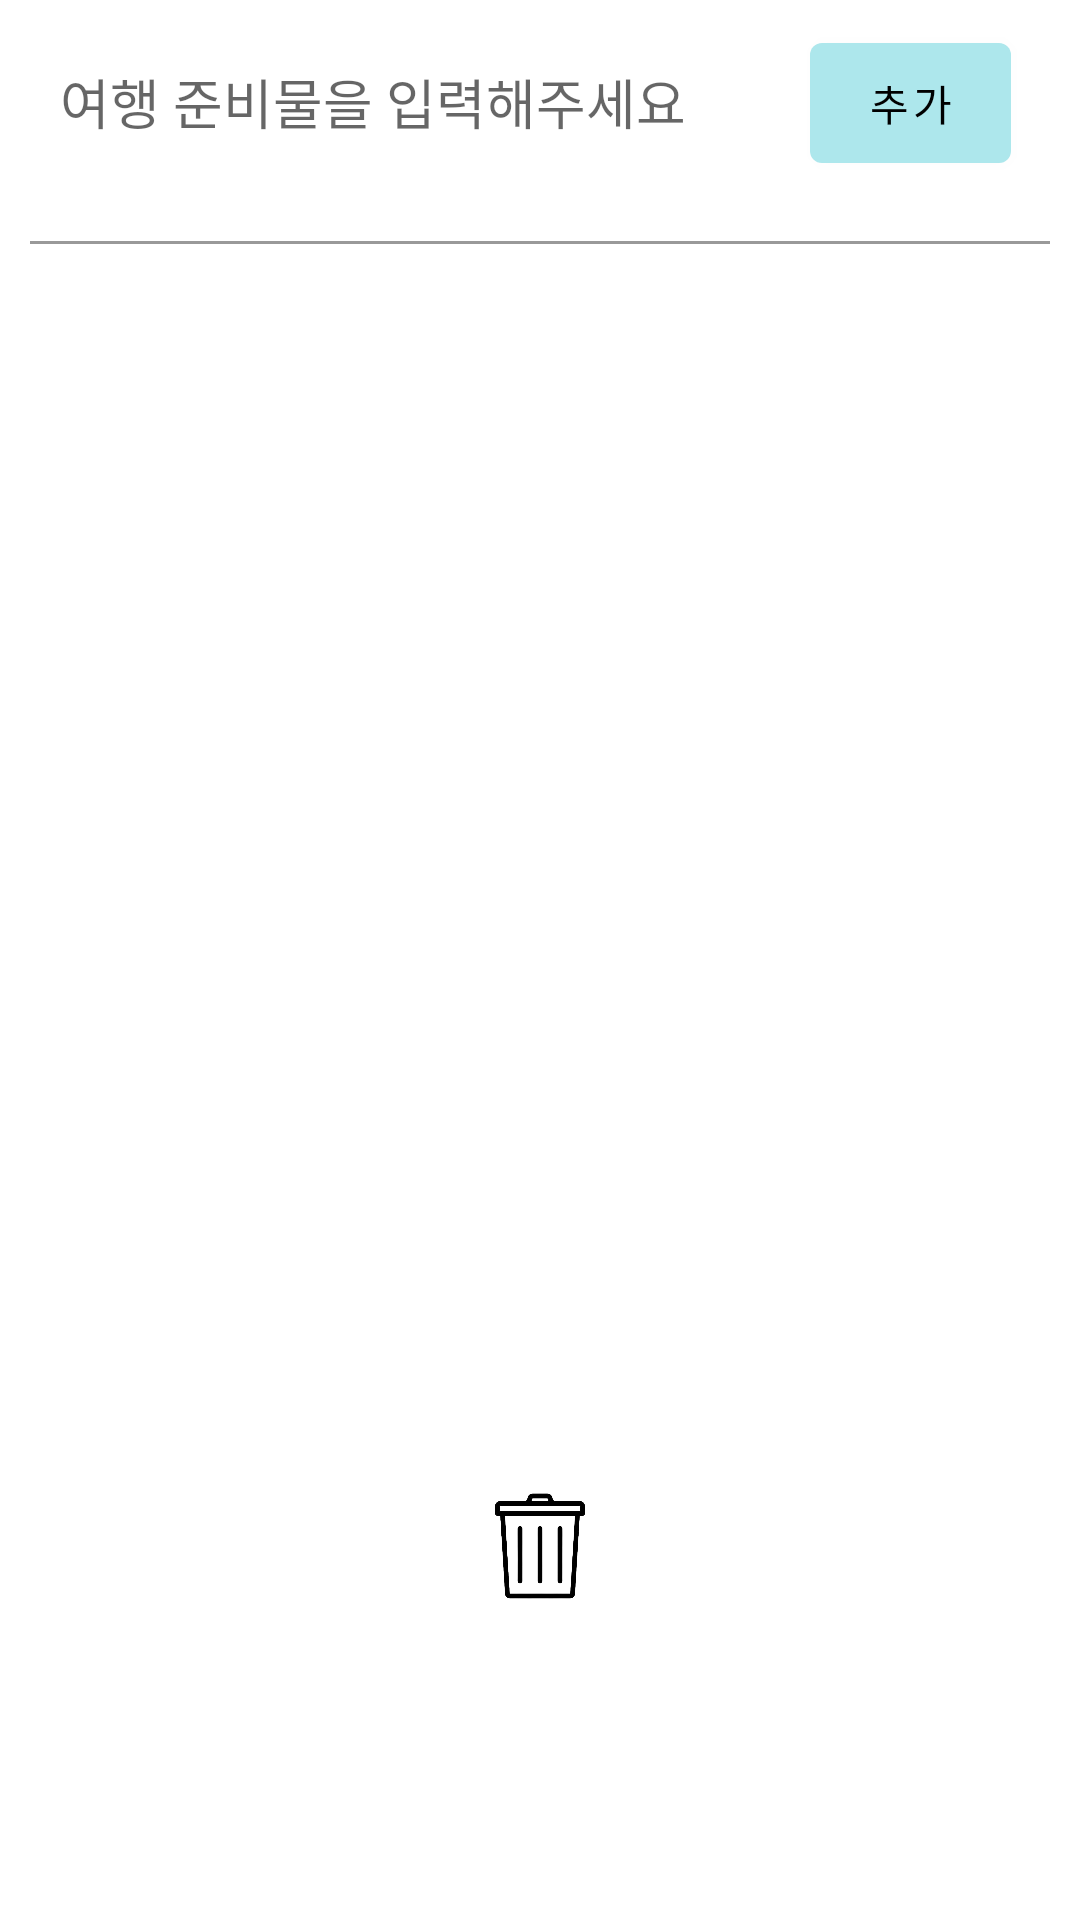

Point at icon controls on the screen. Image size 1080x1920, points as (x,y).
delete: (540,1546)
